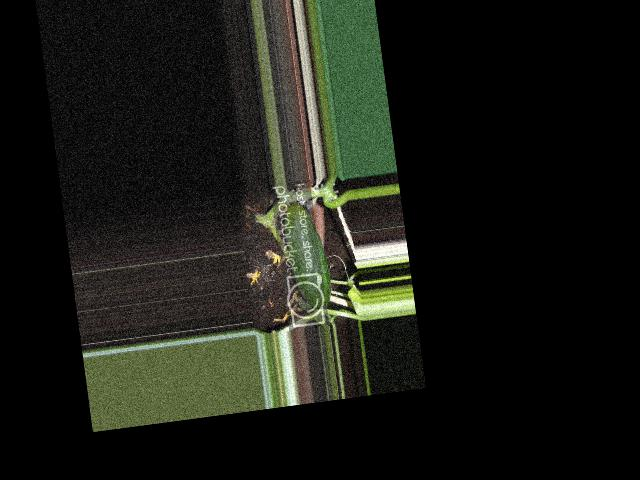cucumber: (280, 200, 333, 311)
